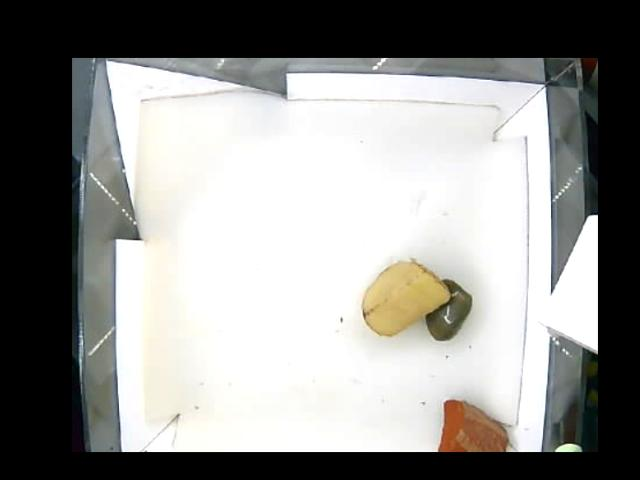Brisk: (436, 399, 507, 451)
Pebble: (426, 275, 471, 342)
Potato: (358, 261, 444, 337)
